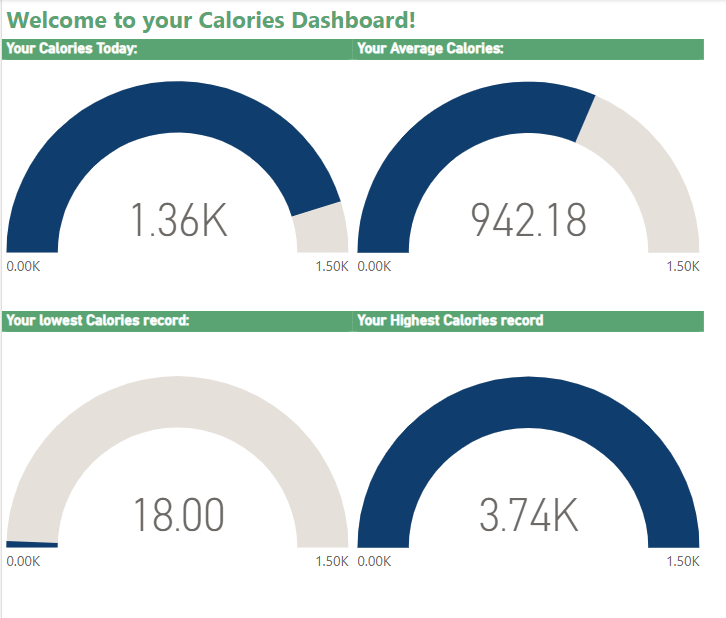

The dashboard page shown, as its layout file describes it:
{"tool":"powerbi","page":{"name":"Calories","canvas":[1280,720],"ordinal":0},"visuals":[{"type":"gauge","title":"Your Calories Today:","fields":{"Y":["Sum(Sheet1.calories)"]},"box":[0,46.7,405.6,313.3],"z":0},{"type":"gauge","title":"Your lowest Calories record:","fields":{"Y":["Min(Sheet1.calories)"]},"box":[0,360,405.6,358.9],"z":1000},{"type":"gauge","title":"Your Average Calories:","fields":{"Y":["Avg(Sheet1.calories)"]},"box":[405.6,46.7,404.4,313.3],"z":2000},{"type":"gauge","title":"Your Highest Calories record:","fields":{"Y":["Max(Sheet1.calories)"]},"box":[405.1,359.7,405.1,360.8],"z":3000},{"type":"textbox","box":[0,0,810,46.7],"z":4000}]}

Visuals, with their boxes on the page's 1280x720 design canvas (x1, y1, x2, y2). These are canvas units, not pixel positions in the 726x618 screenshot, which may show the page scaled, cropped or inside an application window:
"Your Calories Today:" gauge: crop(0, 47, 406, 360)
"Your lowest Calories record:" gauge: crop(0, 360, 406, 719)
"Your Average Calories:" gauge: crop(406, 47, 810, 360)
"Your Highest Calories record:" gauge: crop(405, 360, 810, 720)
textbox: crop(0, 0, 810, 47)
